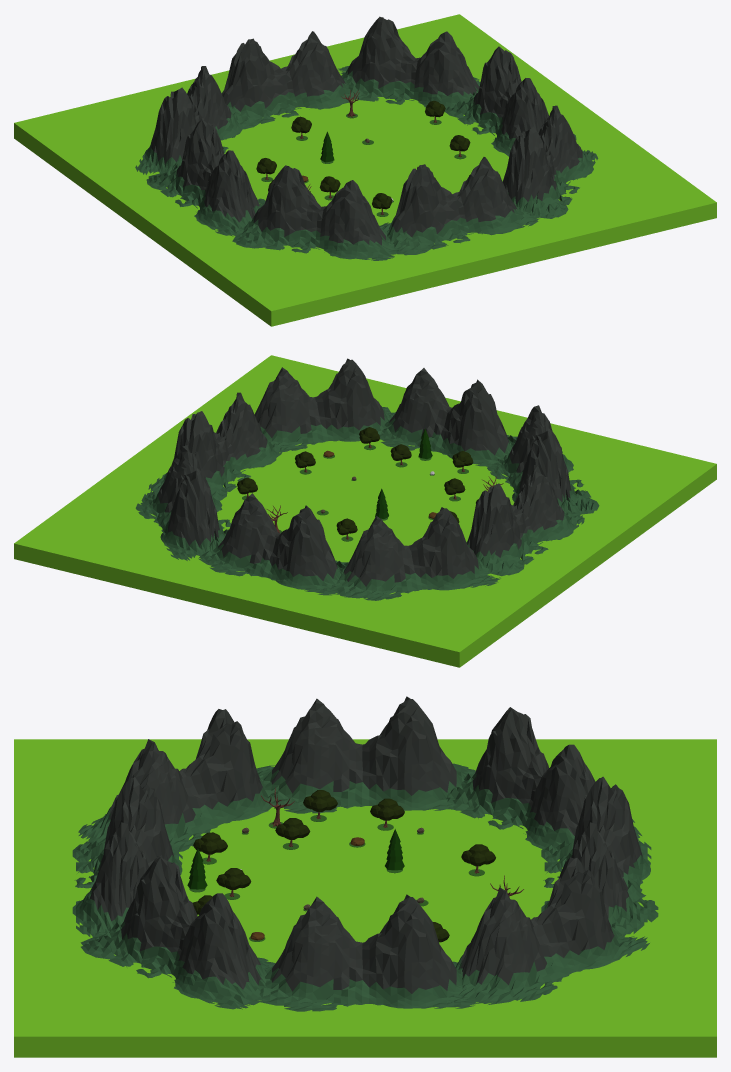
File: Stage7.fbx
3 views of the same model, one above another, from view 1: azimuth 30°, elevation 25°; view 2: azimuth 150°, elevation 25°; view 3: azimuth 270°, elevation 25° (orthographic). The views are drawn at different scales.
Parts seen in each view (by area): view 1: Cube, mountain__5_, mountain, mountain__4_, mountain__1_, mountain__2_, mountain__7_, mountain__3_, mountain__6_; view 2: Cube, mountain__6_, mountain__1_, mountain__7_, mountain, mountain__2_, mountain__4_, mountain__3_, mountain__5_; view 3: Cube, mountain__3_, mountain__2_, mountain__4_, mountain__7_, mountain__6_, mountain__5_, mountain, mountain__1_, oakTree__6_, oakTree__4_, oakTree__2_ (+3 smaller).
Part boxes in pixels (x1,y1,x2,y2): Cube: (14, 14, 716, 326); mountain__5_: (232, 165, 396, 260); mountain: (379, 157, 539, 255); mountain__4_: (337, 16, 480, 109); mountain__1_: (222, 31, 363, 129); mountain__2_: (146, 119, 265, 236); mountain__7_: (503, 105, 598, 218); mountain__3_: (444, 46, 576, 156); mountain__6_: (135, 66, 242, 174); Cube: (14, 355, 716, 667); mountain__6_: (331, 507, 500, 600); mountain__1_: (198, 493, 348, 595); mountain__7_: (254, 358, 394, 452); mountain: (379, 368, 517, 467); mountain__2_: (466, 465, 584, 576); mountain__4_: (135, 445, 230, 560); mountain__3_: (148, 392, 284, 500); mountain__5_: (487, 405, 599, 515); Cube: (14, 739, 716, 1057); mountain__3_: (258, 894, 475, 1011); mountain__2_: (256, 696, 475, 813); mountain__4_: (455, 857, 649, 1004); mountain__7_: (80, 855, 275, 1009); mountain__6_: (442, 707, 641, 849); mountain__5_: (78, 709, 274, 851); mountain: (72, 776, 182, 936); mountain__1_: (541, 776, 658, 935); oakTree__6_: (461, 844, 495, 873); oakTree__4_: (193, 832, 227, 861); oakTree__2_: (370, 798, 404, 827).
Bounding box in the file's own units: 30000 × 5360 × 30000.
